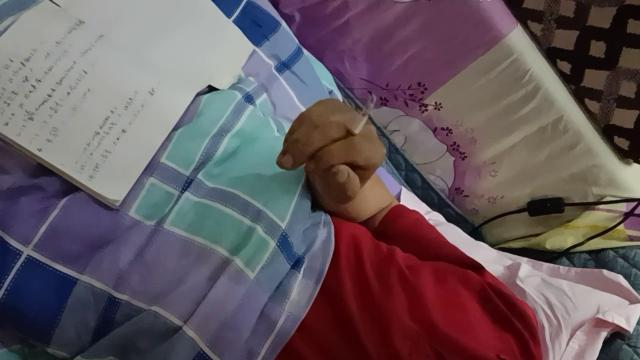Smoking: (344, 94, 378, 142)
